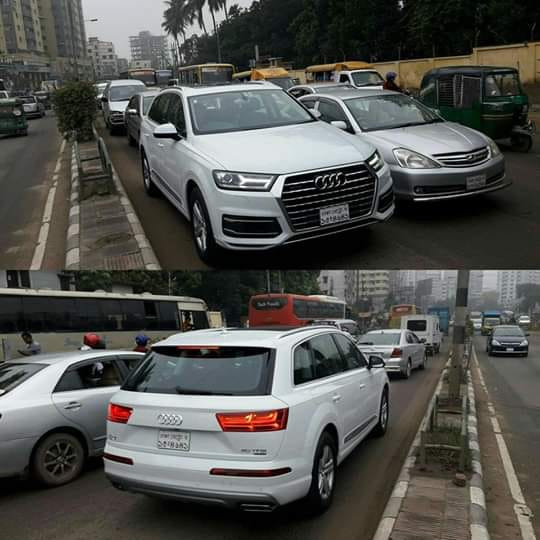registration_plate: (157, 429, 191, 452), (319, 203, 350, 226), (465, 173, 487, 190)
